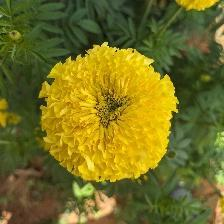marigold: (39, 43, 181, 189)
